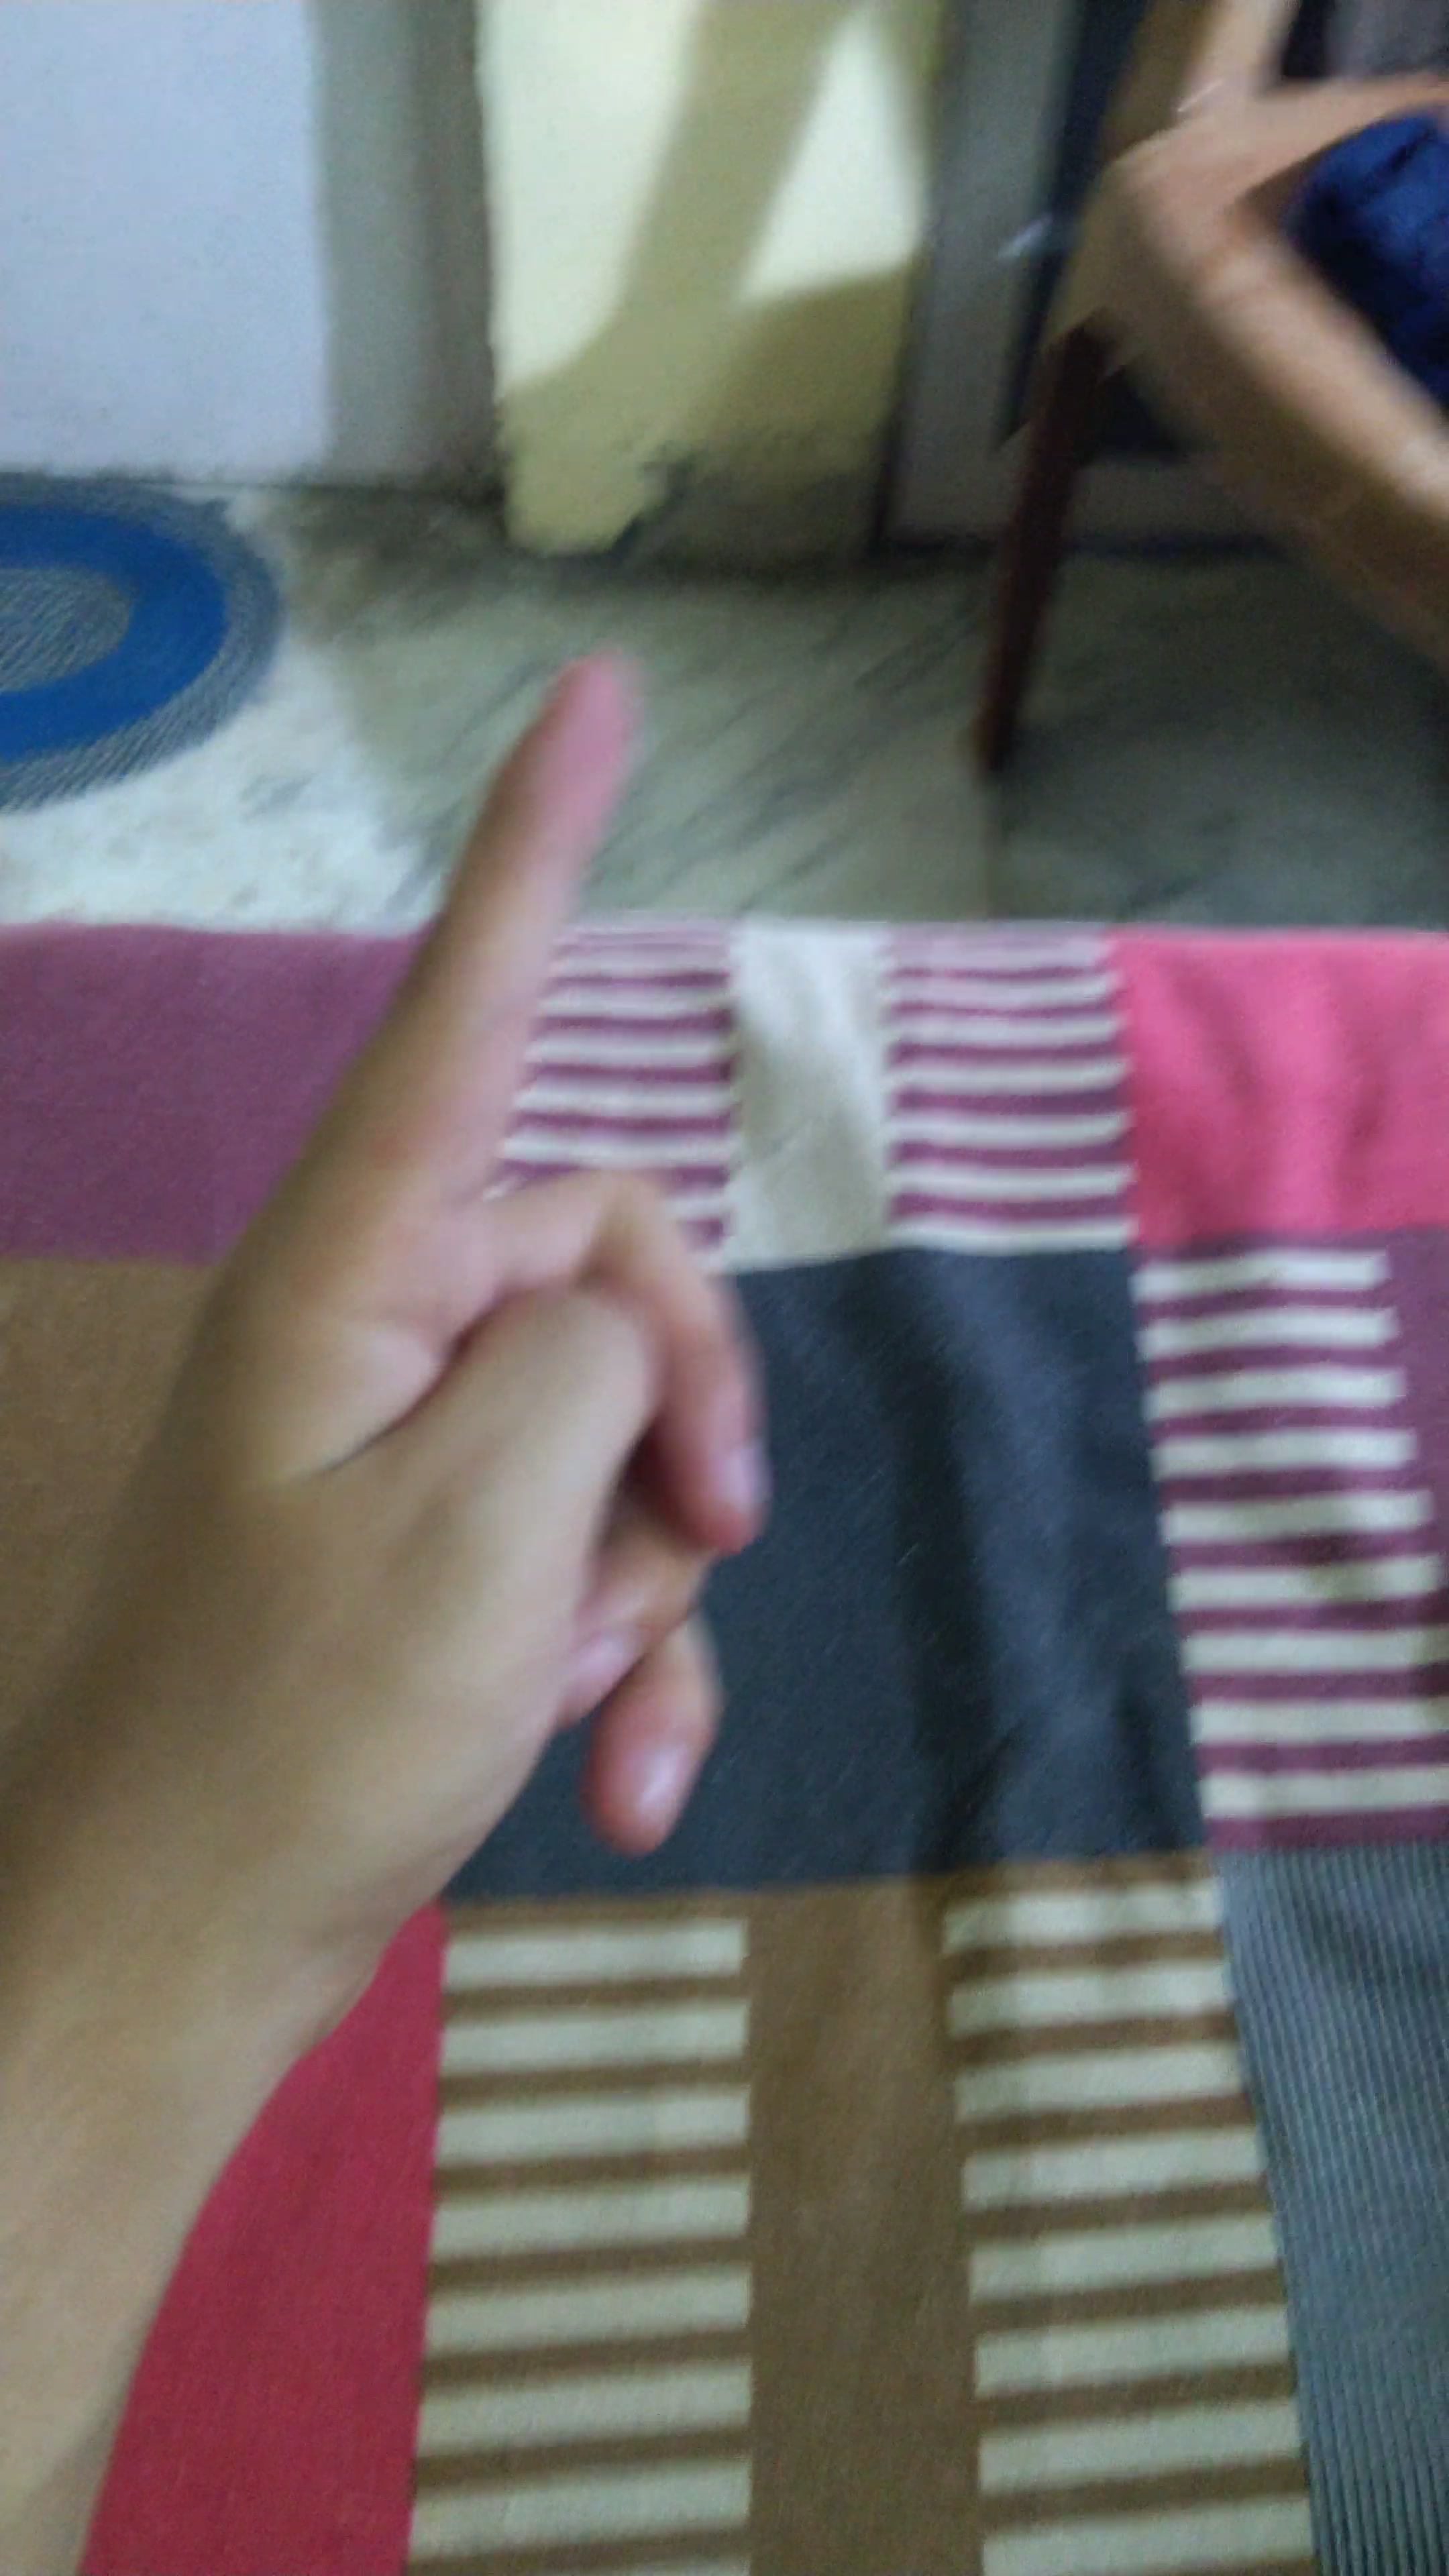hand: (80, 625, 904, 2077)
